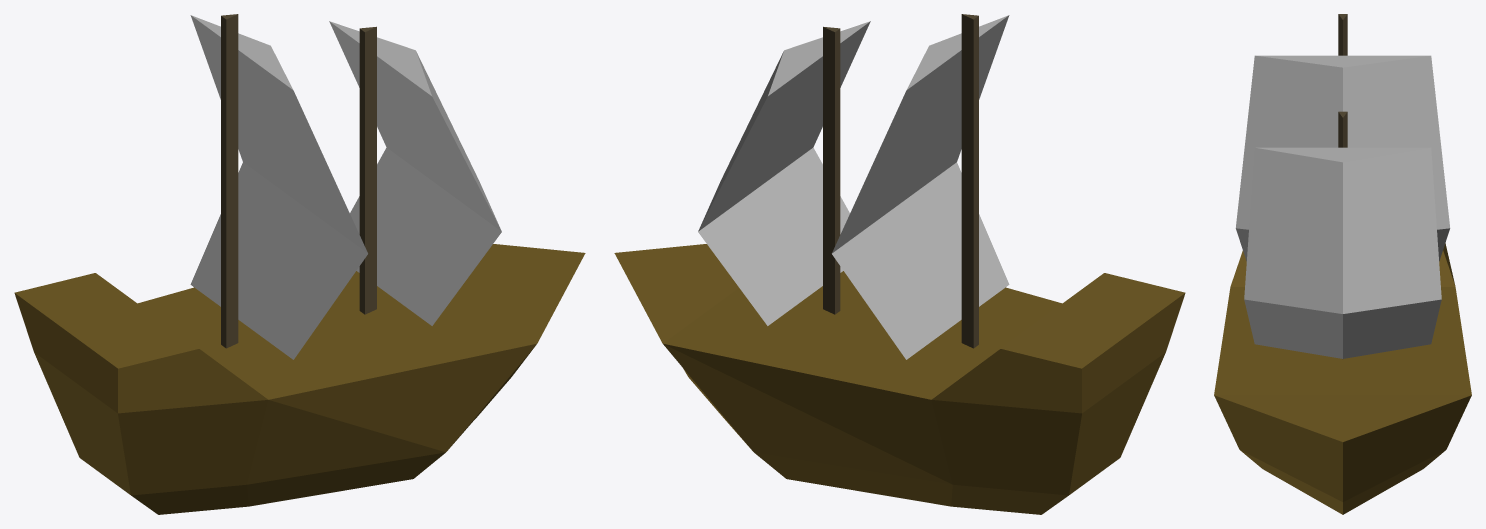
Rendered from pirate-ship-fat.fbx.
The picture shows the model from 3 angles, left to right: view 1: azimuth 30°, elevation 25°; view 2: azimuth 150°, elevation 25°; view 3: azimuth 270°, elevation 25°; orthographic projection. The views are drawn at different scales.
Visible parts, largest first — view 1: Hull, Sail0, Sail1, Mast0, Mast1; view 2: Hull, Sail0, Sail1, Mast0, Mast1; view 3: Sail1, Hull, Sail0, Mast0, Mast1.
Part boxes in pixels (box(x1,y1,x2,y2)): Hull: box(14, 244, 585, 514); Sail0: box(190, 15, 367, 359); Sail1: box(329, 21, 501, 325); Mast0: box(221, 14, 238, 348); Mast1: box(359, 26, 376, 314); Hull: box(614, 244, 1185, 514); Sail0: box(832, 15, 1009, 359); Sail1: box(698, 21, 870, 325); Mast0: box(961, 14, 978, 348); Mast1: box(823, 26, 840, 314); Sail1: box(1244, 147, 1441, 358); Hull: box(1214, 243, 1471, 514); Sail0: box(1235, 55, 1450, 261); Mast0: box(1338, 14, 1347, 55); Mast1: box(1338, 111, 1347, 147).
Bounding box in the file's own units: 3.42 × 2.91 × 1.72.
